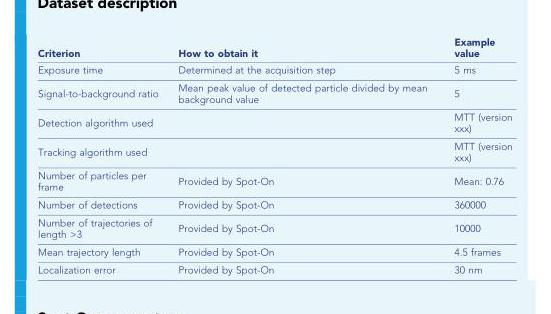table: (37, 37, 511, 275)
table column: (167, 37, 439, 275), (37, 37, 167, 275), (439, 37, 511, 275)
table column header: (37, 37, 511, 61)
table row: (37, 78, 511, 108), (37, 213, 511, 243), (37, 108, 511, 137), (37, 137, 511, 166), (37, 166, 511, 195), (37, 37, 511, 61), (37, 195, 511, 213), (37, 243, 511, 261), (37, 61, 511, 78), (37, 261, 511, 275)
